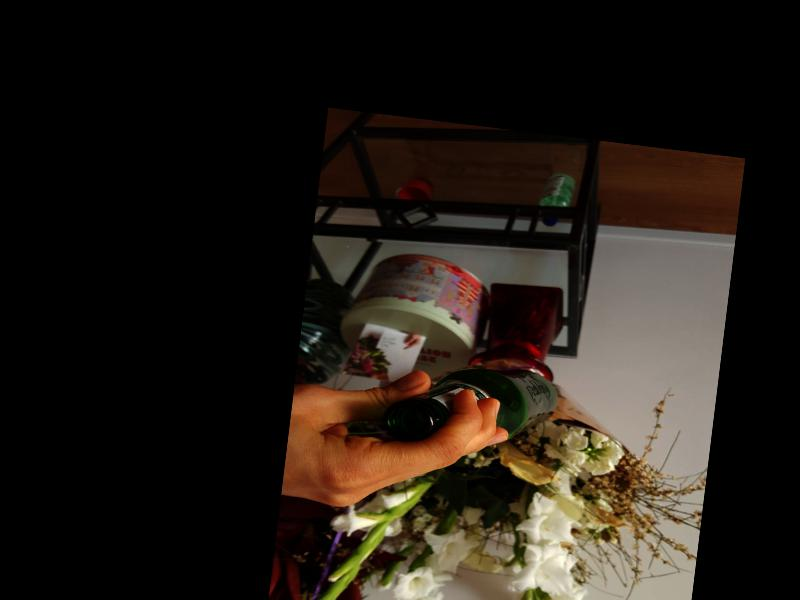Beer: (381, 352, 561, 457)
